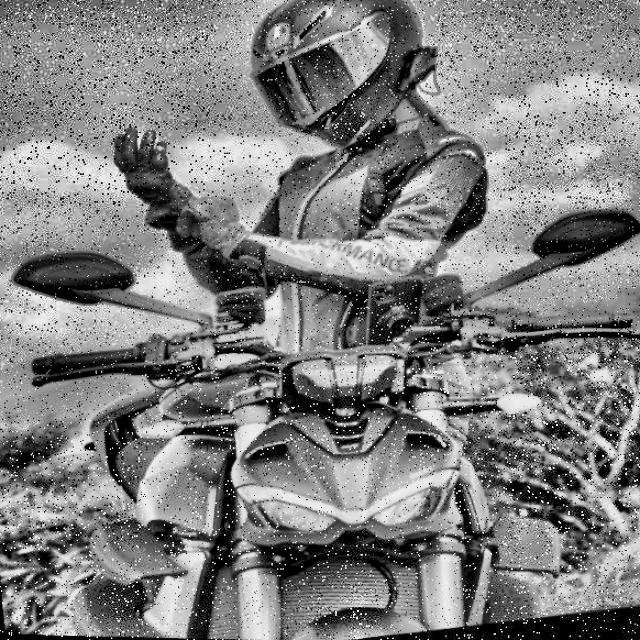Helmet: (228, 0, 460, 176)
